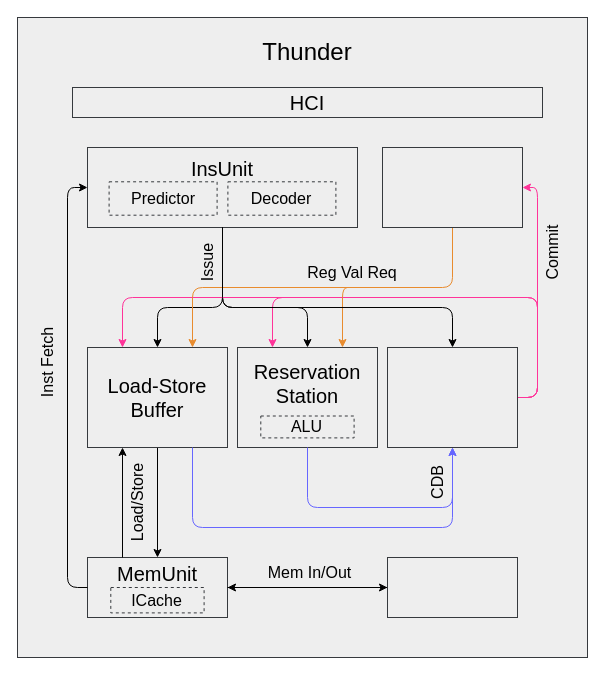
Some shapes in this 605 by 675 pixel diagram are drawn without their labels. The box of each missing label's shape, as (x1, y1, x2, y2) in pixels:
RAM: (386, 556, 518, 618)
Register File: (382, 146, 522, 228)
Reorder Buffer: (386, 346, 518, 448)
